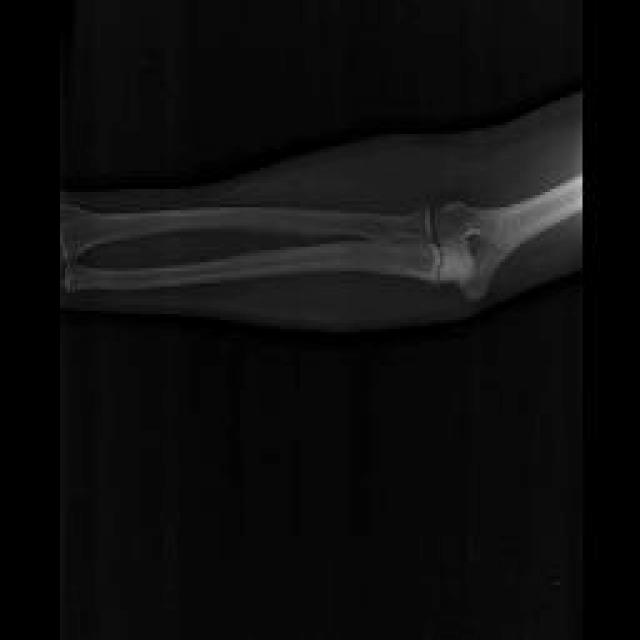normal: (61, 175, 580, 301)
